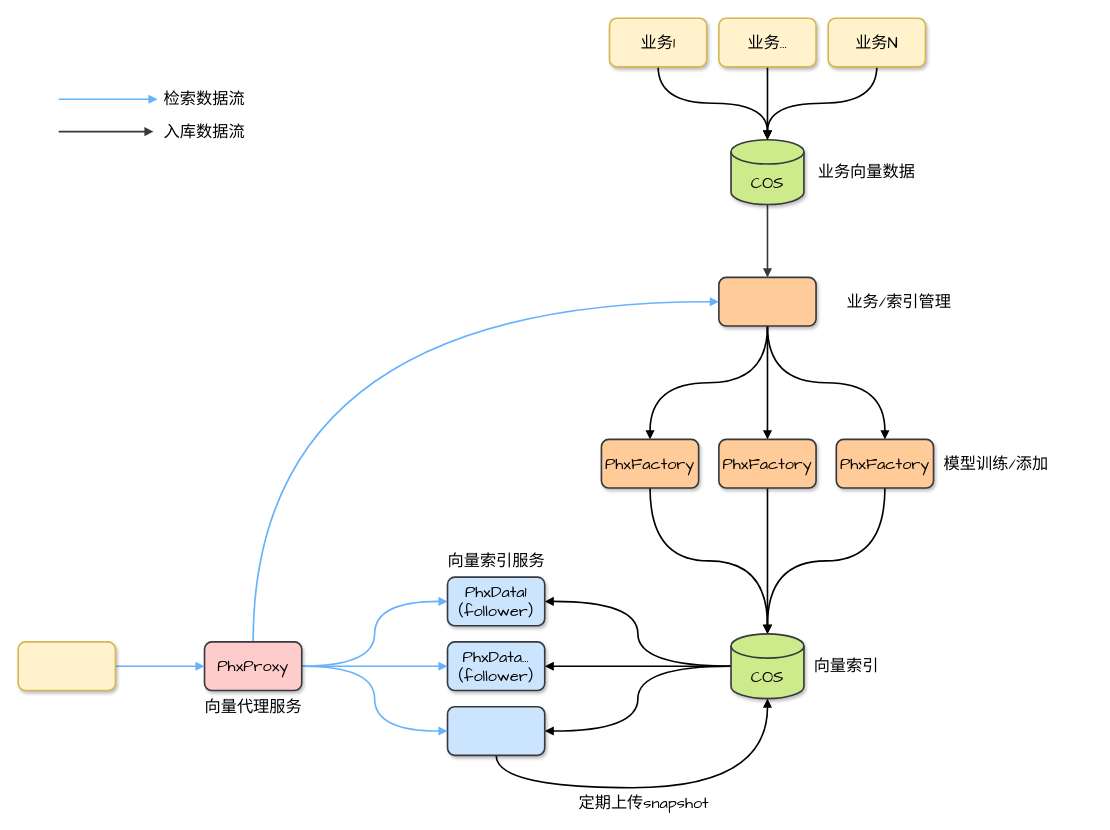
This 1110x830 diagram has some shape labels left out. Each missing label, with the centre of its shape:
Client: the point at 67,667
PhxDataN （leader）: the point at 496,731
PhxManage: the point at 767,302
